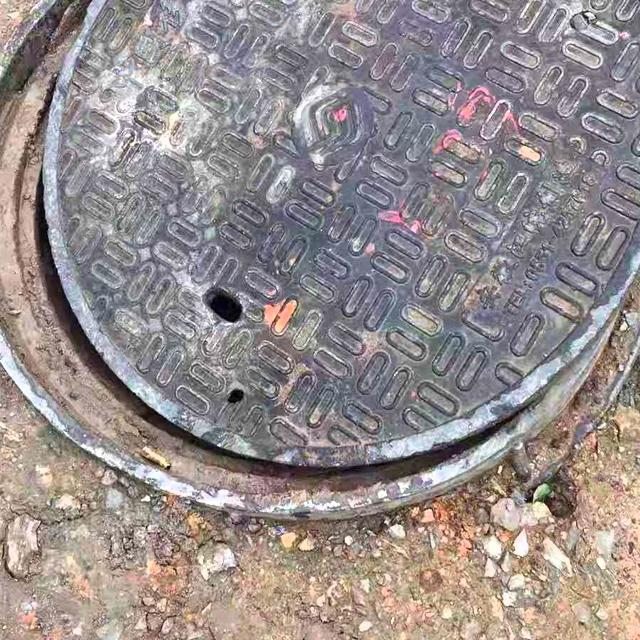uncovered: (0, 0, 640, 518)
